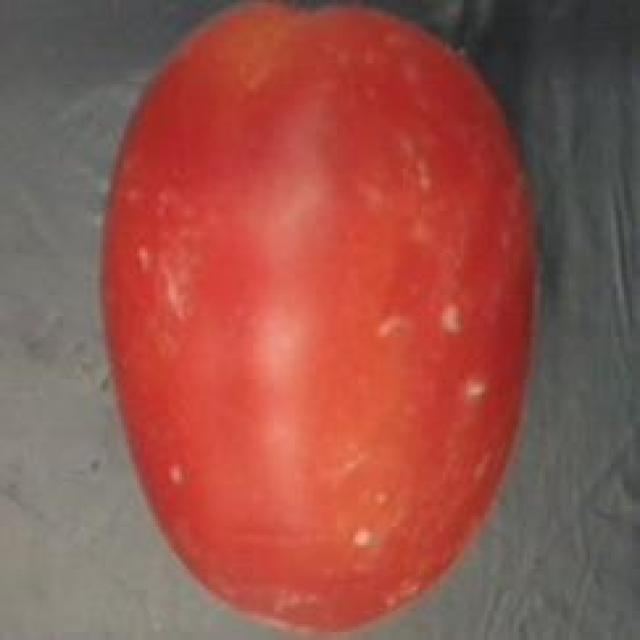overripe tomato: (87, 0, 553, 640)
